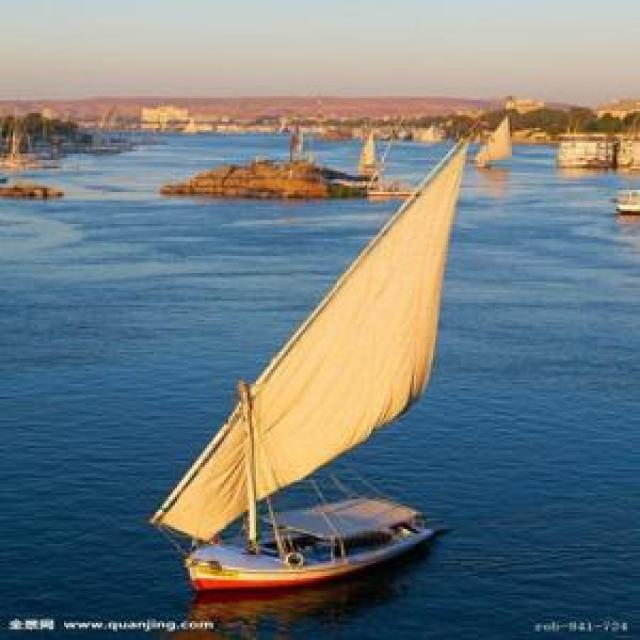sailboat: (156, 118, 463, 589), (465, 114, 519, 175), (350, 124, 389, 184)
